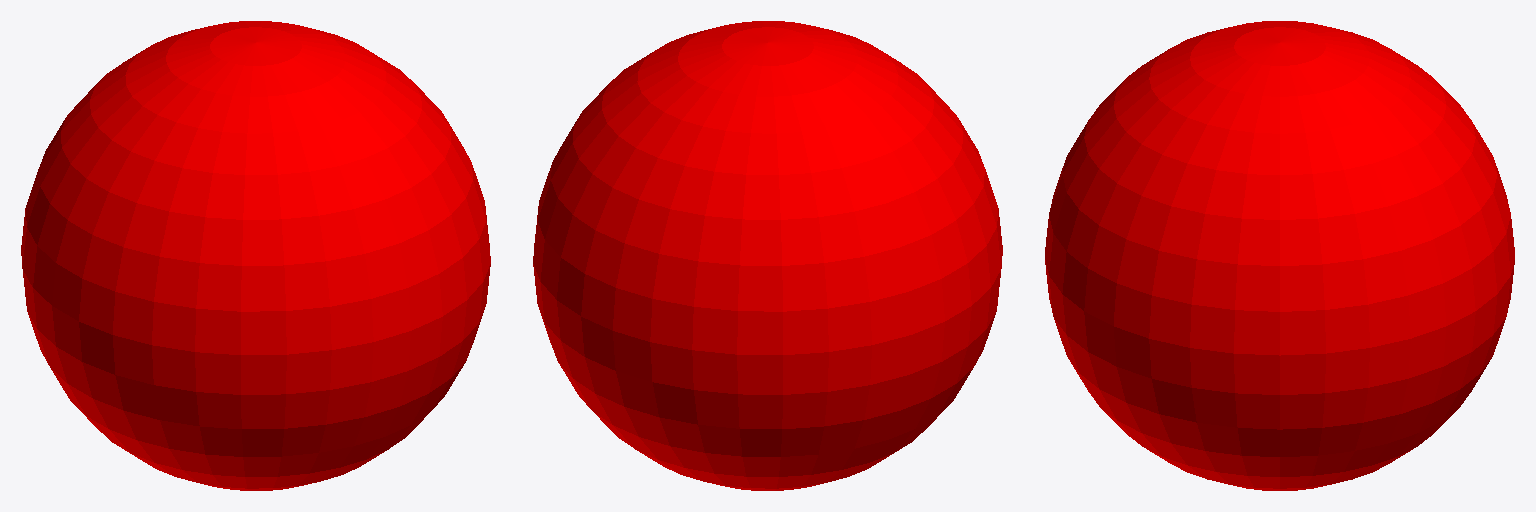
The model's file is exp_full_task.obj.
The picture shows the model from 3 angles: view 1: azimuth 30°, elevation 25°; view 2: azimuth 150°, elevation 25°; view 3: azimuth 270°, elevation 25°; orthographic projection.
Parts seen in each view (by area): view 1: Sphere; view 2: Sphere; view 3: Sphere.
Boxes of the visible parts, x1=… form: Sphere: x1=21, y1=21, x2=490, y2=490; Sphere: x1=533, y1=21, x2=1002, y2=490; Sphere: x1=1045, y1=21, x2=1514, y2=490.
Bounding box in the file's own units: 2 × 2 × 2.